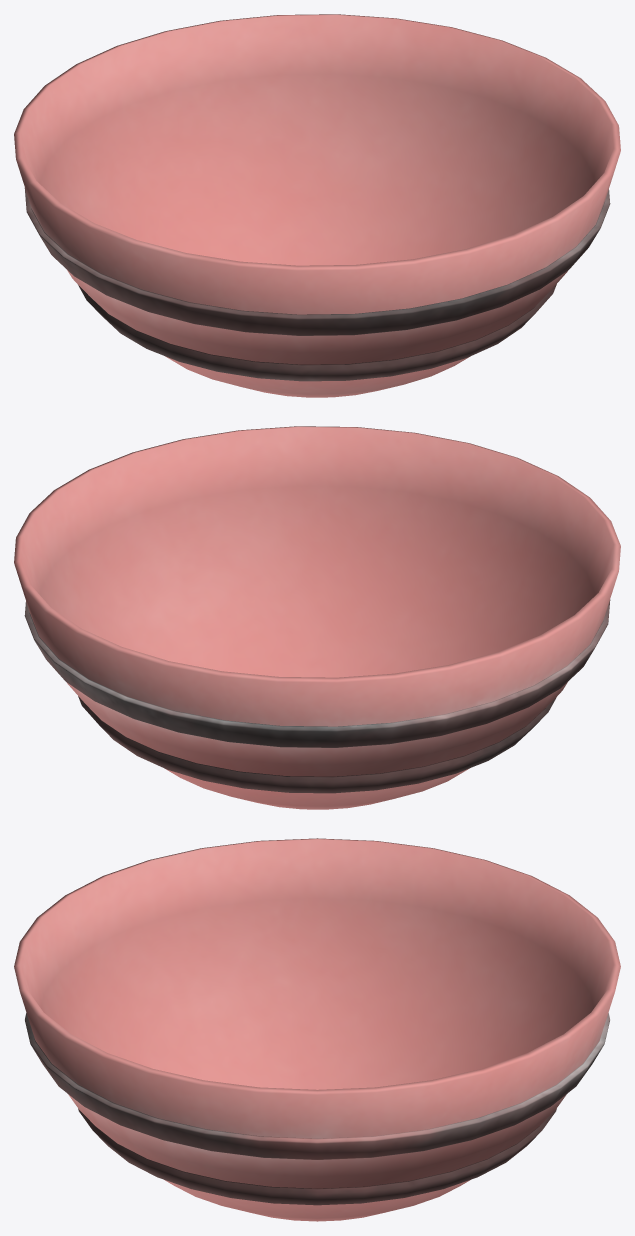
Rendered from Tigela.fbx.
3 renders of one model, top to bottom at view 1: azimuth 30°, elevation 25°; view 2: azimuth 150°, elevation 25°; view 3: azimuth 270°, elevation 25°, orthographic.
Visible parts, largest first — view 1: Sphere.002; view 2: Sphere.002; view 3: Sphere.002.
Boxes of the visible parts, x1,y1,x2,y2 form: Sphere.002: (14, 14, 620, 397); Sphere.002: (14, 426, 620, 809); Sphere.002: (14, 838, 620, 1221).
Size of the model in its own units: 36.67 by 15.2 by 36.67.
